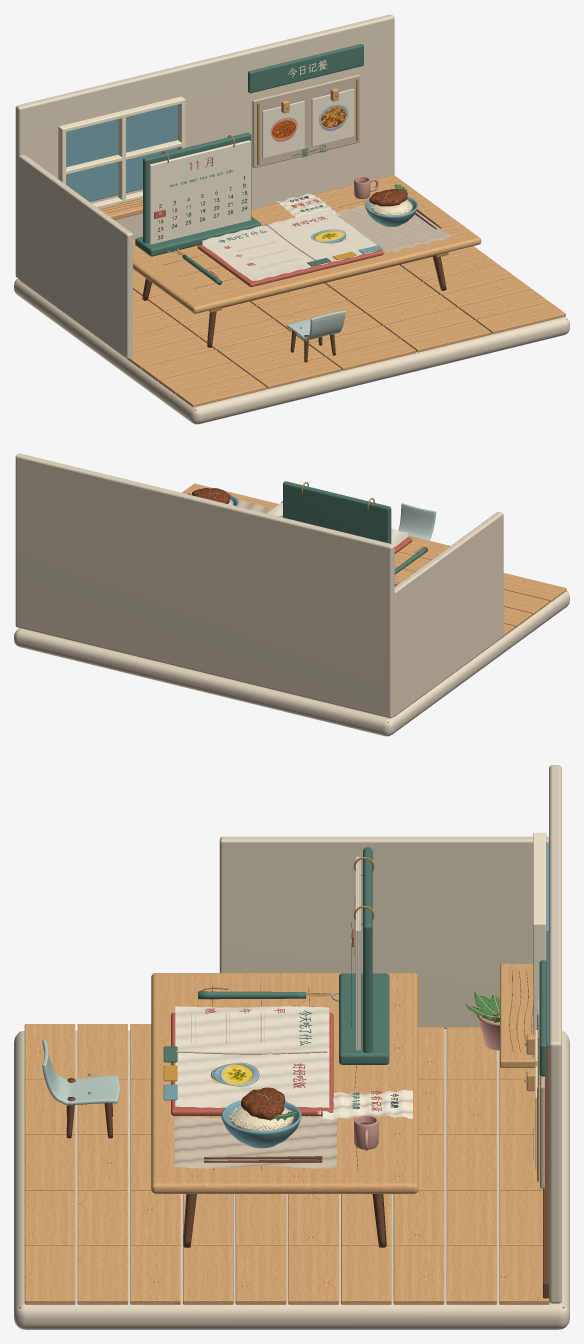
File: meals.glb
3 views of the same model, one above another, from view 1: azimuth 30°, elevation 25°; view 2: azimuth 150°, elevation 25°; view 3: azimuth 270°, elevation 25° (orthographic). The views are drawn at different scales.
Visible parts, largest first — view 1: Back plaster, Left cutaway, Solid oak tabletop.001, Foundation bevel.001, Calendar paper page.005, Recessed window, Cork backing, Journal curved leaf.022, Journal curved leaf.023, Enamel title plaque.001, Linen placement, Photo print backing (+41 smaller); view 2: Back plaster, Left cutaway, Foundation bevel.001, Calendar hinged backing, Solid oak tabletop.001, Steam bent plywood seat, Staggered oak board.050, Staggered oak board.055, Seared steak irregular outline, Staggered oak board.060; view 3: Left cutaway, Solid oak tabletop.001, Foundation bevel.001, Journal curved leaf.022, Back plaster, Linen placement, Journal curved leaf.023, Calendar desk pedestal, Sill timber, Staggered oak board.054, Staggered oak board.074, Staggered oak board.089 (+48 smaller).
Part boxes in pixels (left/top/right/bottom): Back plaster: left=15, top=14, right=394, bottom=278; Left cutaway: left=18, top=154, right=132, bottom=358; Solid oak tabletop.001: left=133, top=175, right=481, bottom=313; Foundation bevel.001: left=14, top=279, right=569, bottom=424; Calendar paper page.005: left=151, top=141, right=250, bottom=244; Recessed window: left=66, top=105, right=177, bottom=201; Cork backing: left=252, top=74, right=359, bottom=167; Journal curved leaf.022: left=202, top=225, right=312, bottom=276; Journal curved leaf.023: left=268, top=210, right=377, bottom=260; Enamel title plaque.001: left=248, top=44, right=363, bottom=93; Linen placement: left=336, top=205, right=452, bottom=251; Photo print backing: left=262, top=101, right=304, bottom=158; Back plaster: left=15, top=453, right=394, bottom=718; Left cutaway: left=394, top=511, right=503, bottom=716; Foundation bevel.001: left=14, top=591, right=569, bottom=736; Calendar hinged backing: left=283, top=481, right=391, bottom=543; Solid oak tabletop.001: left=182, top=483, right=450, bottom=584; Steam bent plywood seat: left=398, top=503, right=436, bottom=540; Staggered oak board.050: left=503, top=573, right=566, bottom=602; Staggered oak board.055: left=503, top=590, right=549, bottom=615; Seared steak irregular outline: left=192, top=488, right=230, bottom=503; Staggered oak board.060: left=503, top=606, right=531, bottom=628; Left cutaway: left=219, top=836, right=548, bottom=1029; Solid oak tabletop.001: left=151, top=973, right=418, bottom=1193; Foundation bevel.001: left=14, top=1030, right=569, bottom=1329; Journal curved leaf.022: left=175, top=1006, right=329, bottom=1053; Back plaster: left=549, top=765, right=561, bottom=1303; Linen placement: left=174, top=1116, right=336, bottom=1168; Journal curved leaf.023: left=175, top=1053, right=329, bottom=1101; Calendar desk pedestal: left=339, top=973, right=389, bottom=1064; Sill timber: left=500, top=963, right=539, bottom=1067; Staggered oak board.054: left=24, top=1246, right=75, bottom=1304; Staggered oak board.074: left=235, top=1246, right=286, bottom=1304; Staggered oak board.089: left=393, top=1246, right=444, bottom=1304.
Bounding box in the file's own units: 9.2 × 4.43 × 7.7.
25 materials, 6 textured.
